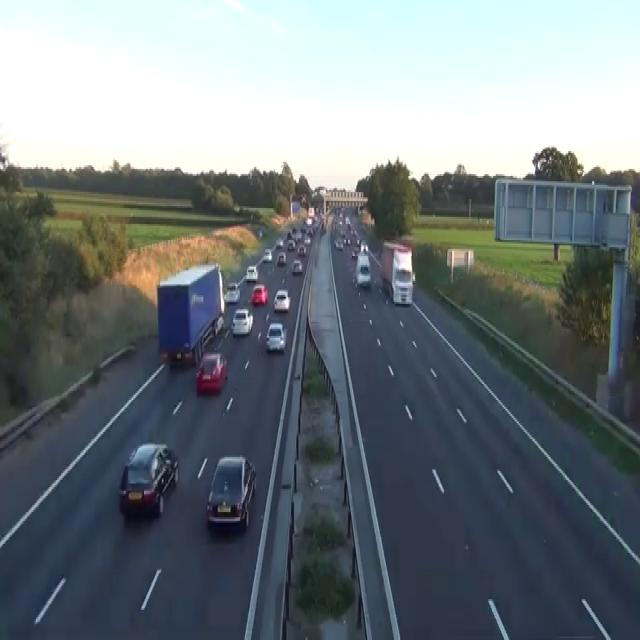Car: (118, 441, 178, 519), (206, 455, 256, 528), (195, 352, 228, 395), (265, 322, 286, 352), (231, 308, 253, 336), (355, 252, 371, 286), (273, 290, 290, 311), (251, 283, 268, 304), (224, 281, 240, 302), (213, 315, 224, 334), (245, 265, 258, 281), (291, 258, 302, 274), (0, 149, 8, 171), (262, 247, 272, 261), (276, 252, 286, 265), (334, 236, 343, 249), (297, 244, 306, 256), (287, 238, 295, 251), (227, 281, 238, 290), (360, 242, 368, 252), (351, 247, 358, 258), (276, 237, 283, 247), (344, 235, 351, 245), (305, 217, 312, 226), (304, 236, 311, 244), (286, 230, 292, 238), (345, 215, 350, 224), (321, 224, 326, 233), (258, 228, 262, 238)
Truck: (156, 262, 225, 366), (380, 240, 414, 306)
